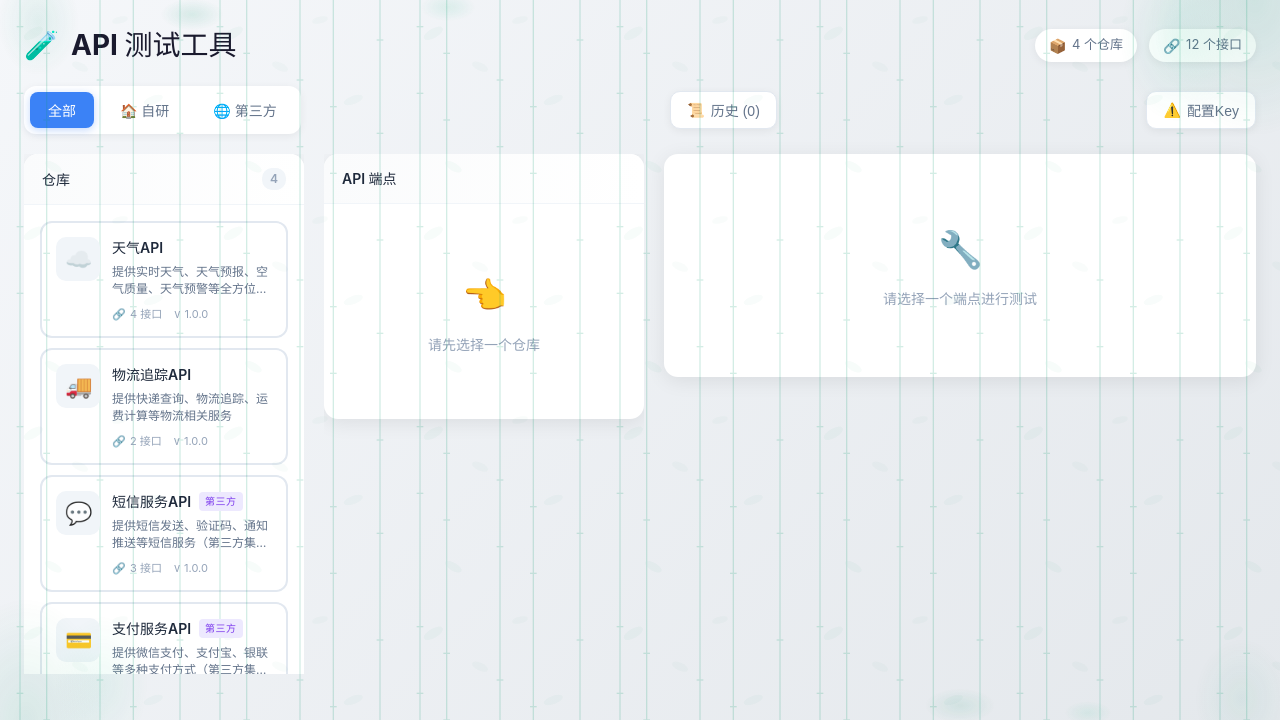
Test: ApiTester 渲染与筛选 › TC-FE-TESTER-003: 点击仓库后展示其端点列表
Click the heading "天气API" at point(138, 248), box [112,237,163,258]
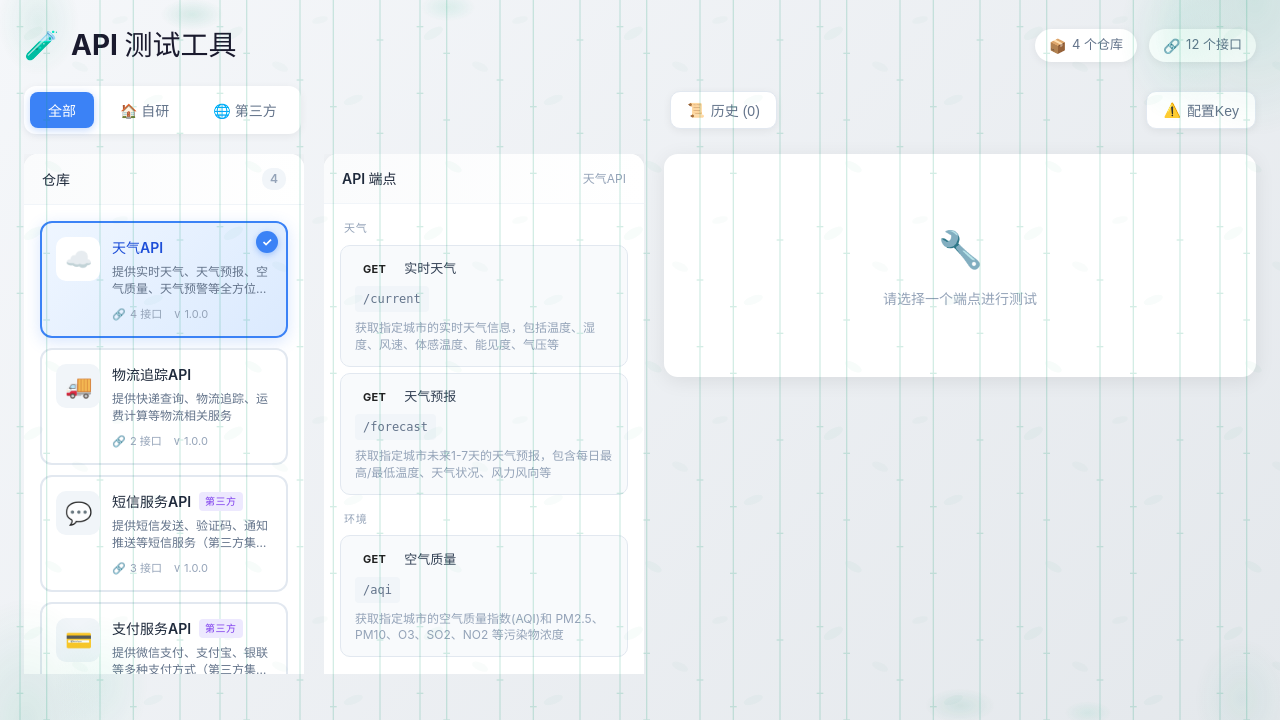
Result: the text "实时天气" is shown at [404,259,456,278]
